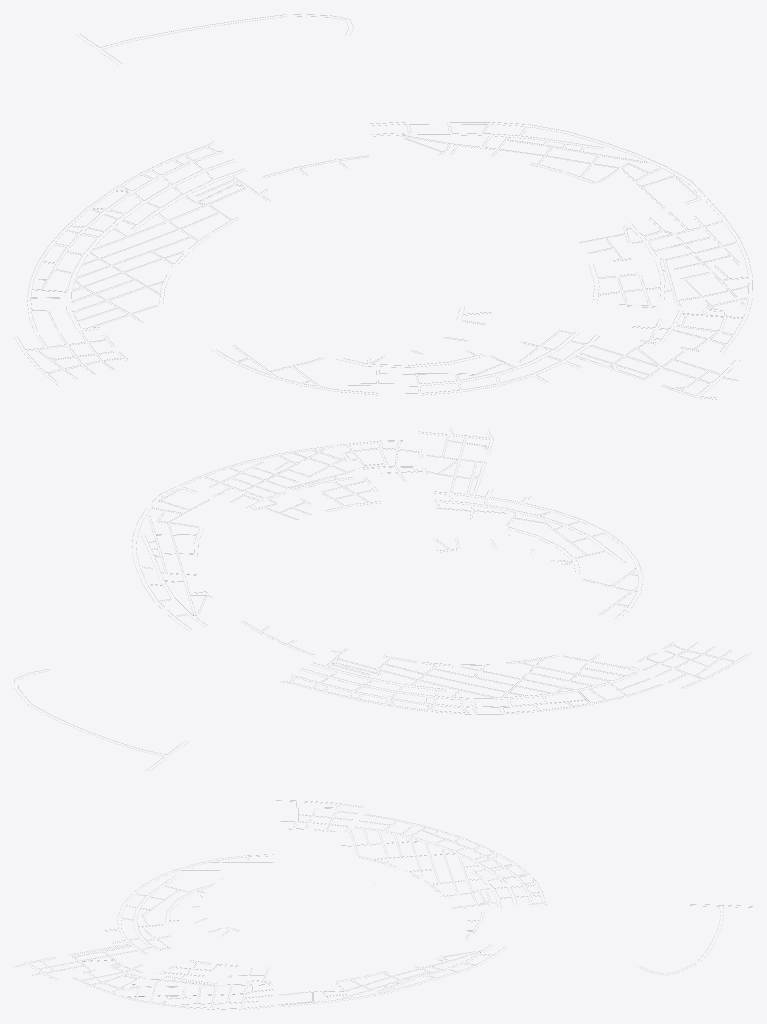
File: city_3d_model_19.glb
3 renders of one model, top to bottom at view 1: azimuth 30°, elevation 25°; view 2: azimuth 150°, elevation 25°; view 3: azimuth 270°, elevation 25°, orthographic. The views are drawn at different scales.
Parts seen in each view (by area): view 1: Object_312; view 2: Object_312; view 3: Object_312.
Part boxes in pixels (left/top/right/bottom): Object_312: left=18, top=14, right=752, bottom=399; Object_312: left=14, top=428, right=746, bottom=770; Object_312: left=16, top=800, right=752, bottom=1009.
Size of the model in its own units: 769 by 42.67 by 1050.
Materials: 1 (1 with a texture image).
